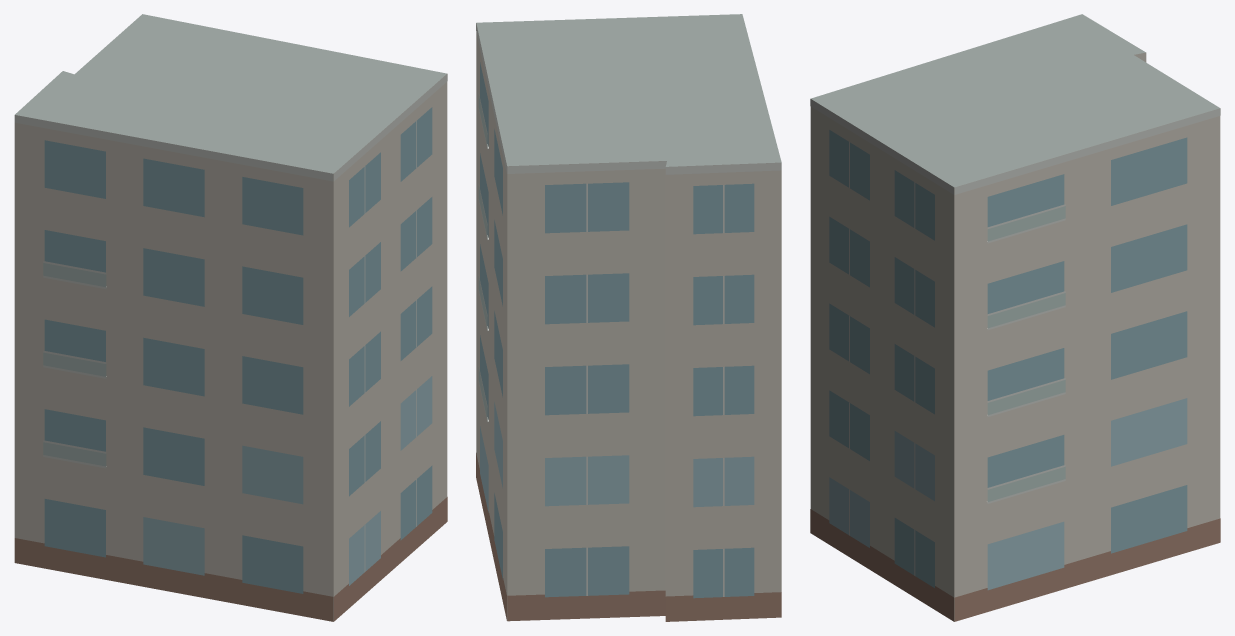
The model's file is survey-upis-32835923.glb.
The picture shows the model from 3 angles, left to right: view 1: azimuth 30°, elevation 25°; view 2: azimuth 150°, elevation 25°; view 3: azimuth 270°, elevation 25°; orthographic projection. The views are drawn at different scales.
Parts seen in each view (by area): view 1: survey-upis-32835923.tmp; view 2: survey-upis-32835923.tmp; view 3: survey-upis-32835923.tmp.
Part boxes in pixels (x1,y1,x2,y2): survey-upis-32835923.tmp: (14, 14, 447, 621); survey-upis-32835923.tmp: (476, 14, 781, 621); survey-upis-32835923.tmp: (810, 14, 1220, 621).
Bounding box in the file's own units: 12.04 × 14.05 × 12.03.
